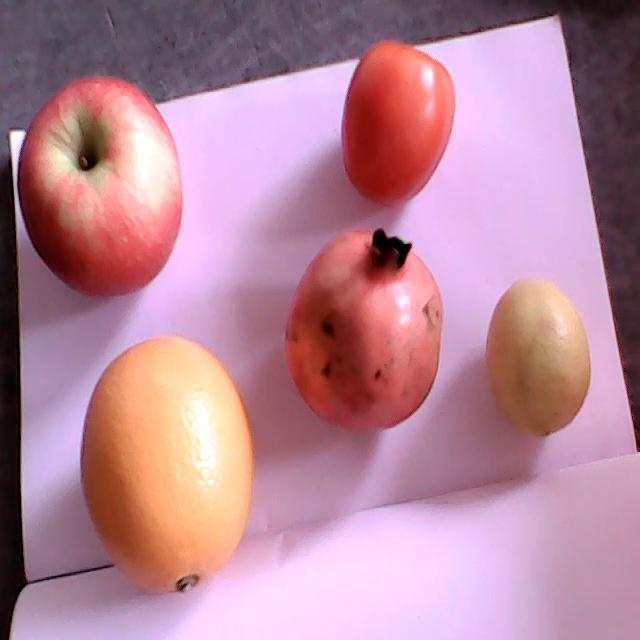apple: (17, 75, 182, 294)
lemon: (485, 278, 590, 438)
orange: (80, 335, 254, 594)
pomegranate: (283, 227, 444, 429)
tomato: (341, 40, 456, 207)
